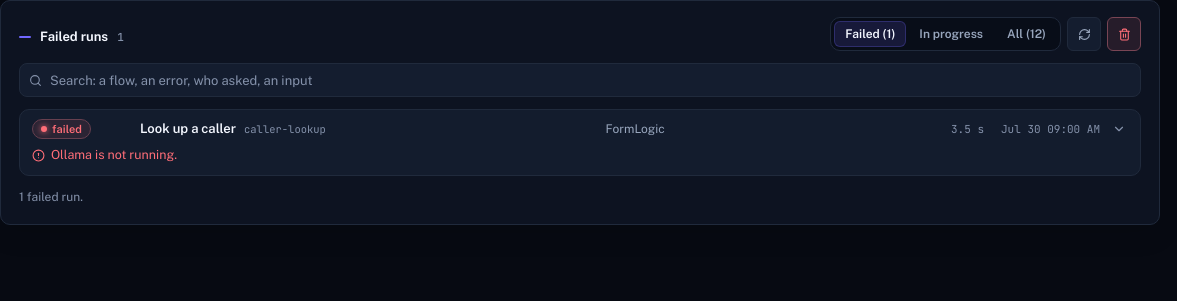
Test case: RunsPanel › surfaces a failed clear instead of pretending it worked
Click the button named "Clear finished runs" at (1124, 34), box 1107,17 -> 1141,51
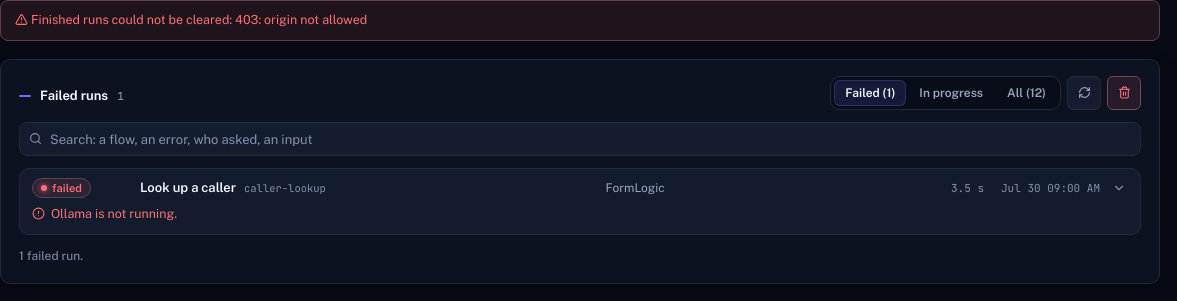
Expected: the text "origin not allowed" is shown, 31,12 -> 367,27
